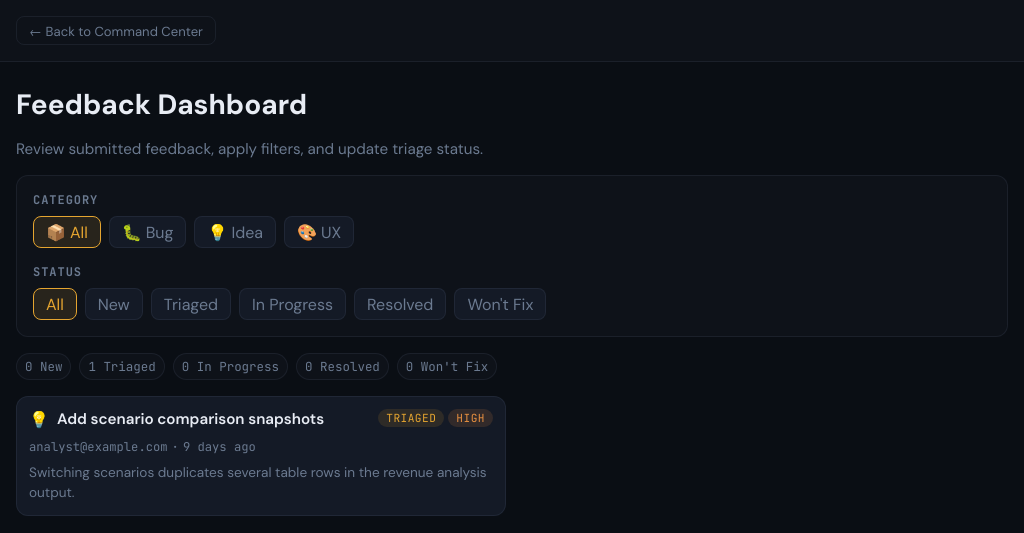
FeedbackDashboard › applies category filter and refetches feedback list
Expected: the heading "Add scenario comparison snapshots" is shown, [57,409,324,429]
Click the button "🐛 Bug" at (148, 232), box [109,216,186,248]
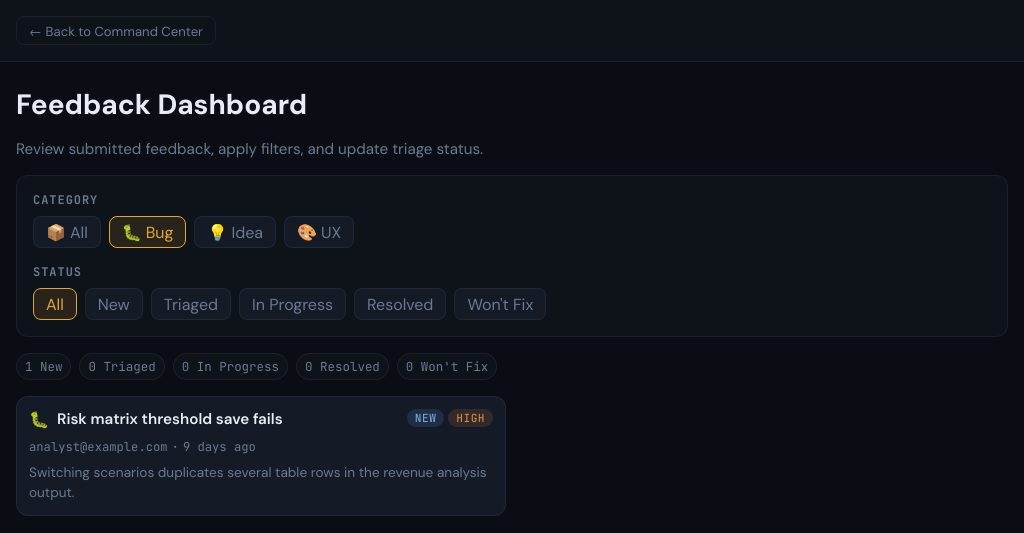
Expected: the heading "Risk matrix threshold save fails" is shown, [57,409,283,429]
Expected: the list item "Add scenario comparison snapshots" is gone
